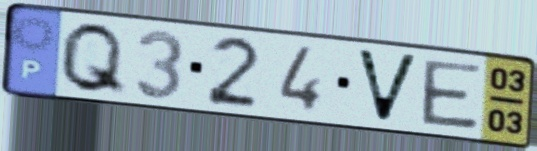2: (206, 34, 264, 113)
3: (132, 27, 186, 103)
4: (276, 45, 327, 115)
E: (419, 58, 484, 133)
Q: (55, 20, 129, 99)
V: (352, 46, 423, 127)
